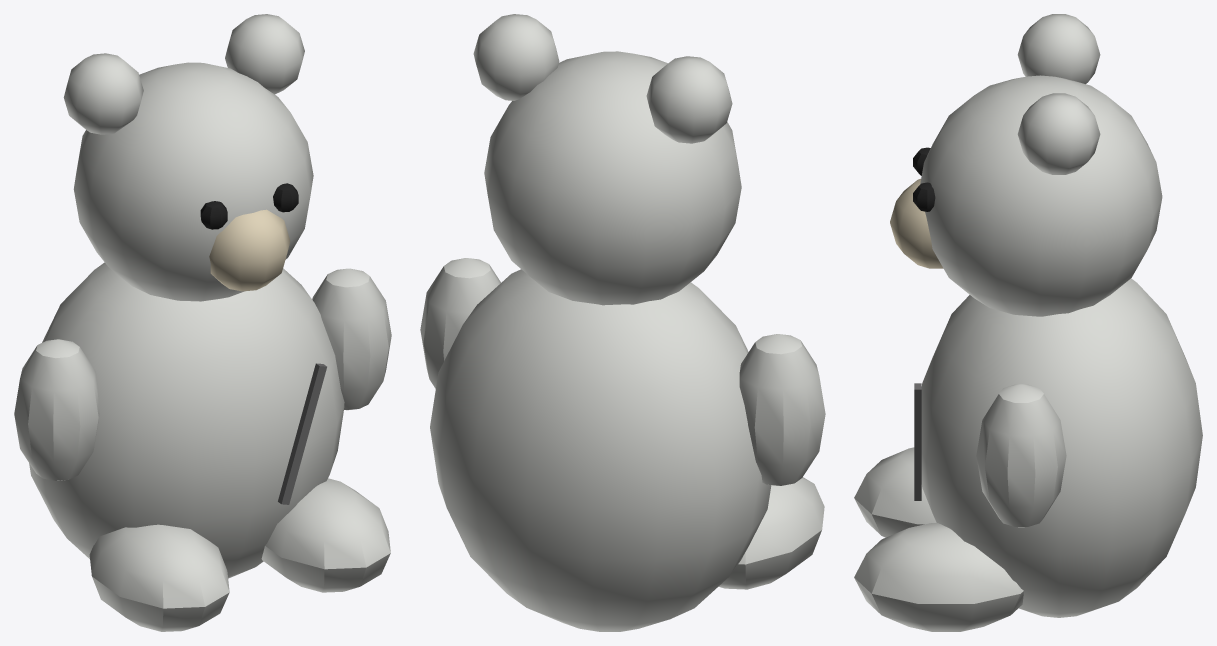
The model's file is teddy_bear.glb.
The picture shows the model from 3 angles, left to right: view 1: azimuth 30°, elevation 25°; view 2: azimuth 150°, elevation 25°; view 3: azimuth 270°, elevation 25°; orthographic projection. The views are drawn at different scales.
Parts seen in each view (by area): view 1: teddy_bear; view 2: teddy_bear; view 3: teddy_bear.
Boxes of the visible parts, bbox=[...] form: teddy_bear: bbox=[14, 14, 391, 631]; teddy_bear: bbox=[420, 14, 825, 631]; teddy_bear: bbox=[854, 14, 1202, 631].
Bounding box in the file's own units: 0.2257 × 0.321 × 0.1855.
